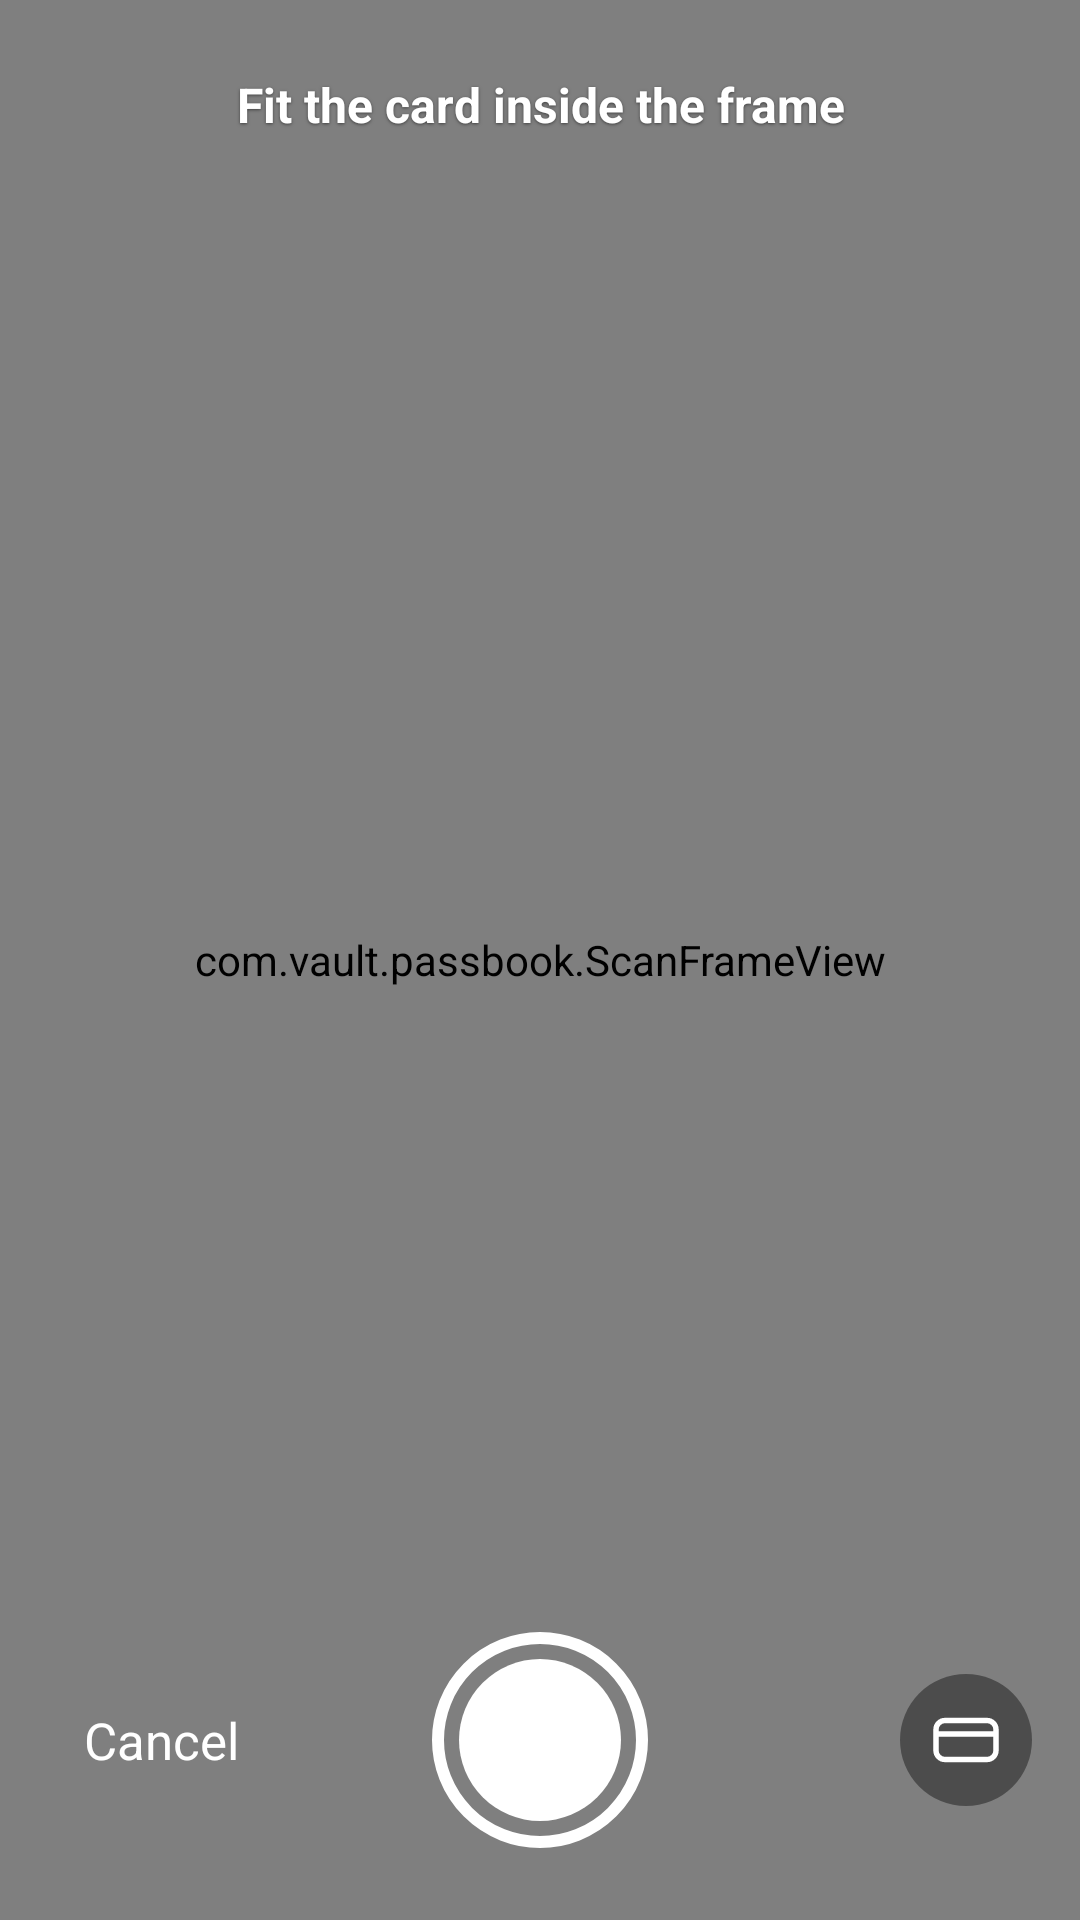

Named icons in this screenshot (1080w x 1920h) and their bounding boxes, (x1, y1, x2, y2):
Switch between horizontal and vertical card: (900, 1674, 1032, 1806)
